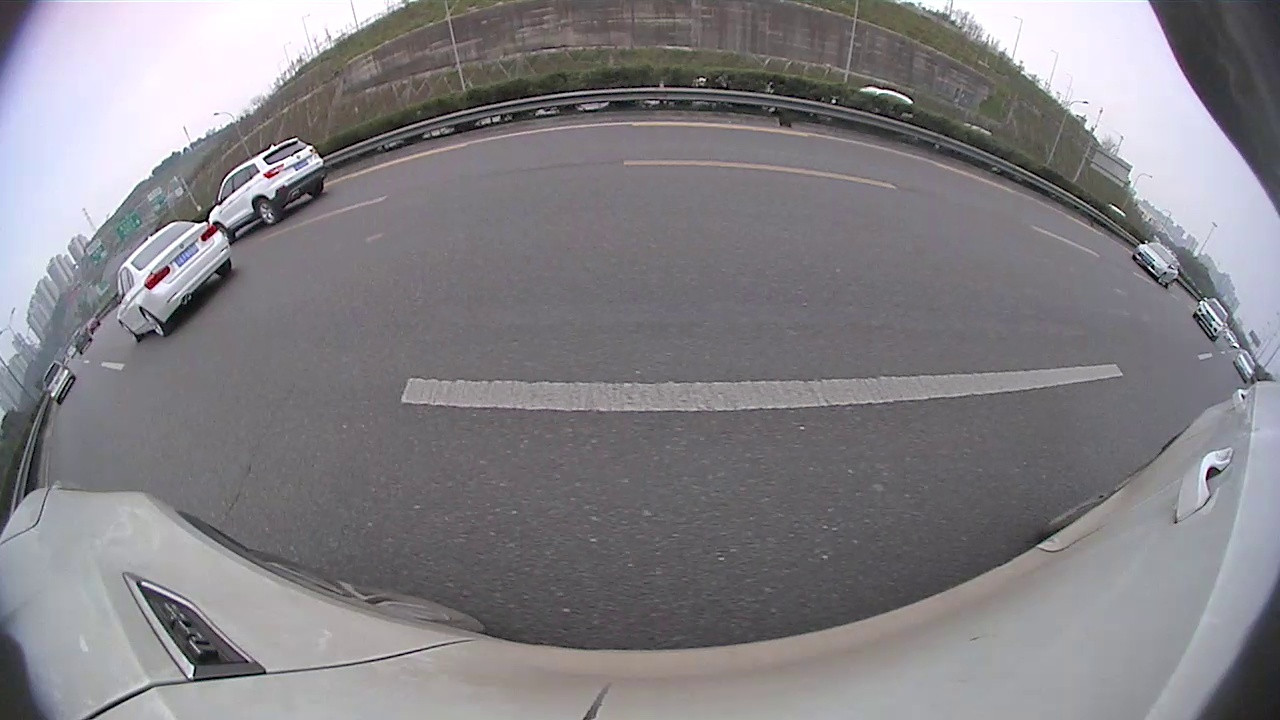car: (959, 183, 1279, 418), (247, 147, 501, 285), (570, 108, 798, 261), (882, 175, 984, 232), (793, 154, 824, 198), (542, 160, 577, 194), (818, 169, 840, 196)
front: (969, 228, 1017, 283), (483, 190, 497, 229), (885, 195, 898, 217)
rear: (1158, 330, 1226, 413), (386, 210, 424, 270), (935, 210, 949, 232)
